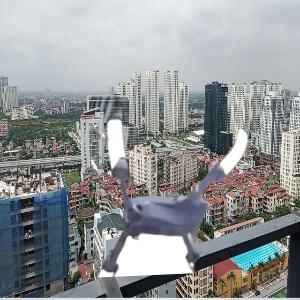drone: (92, 106, 261, 275)
